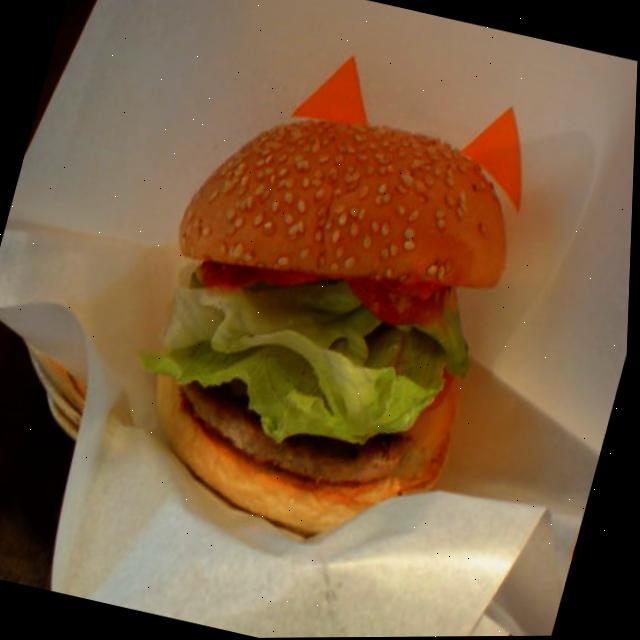汉堡快餐: (116, 79, 541, 573)
